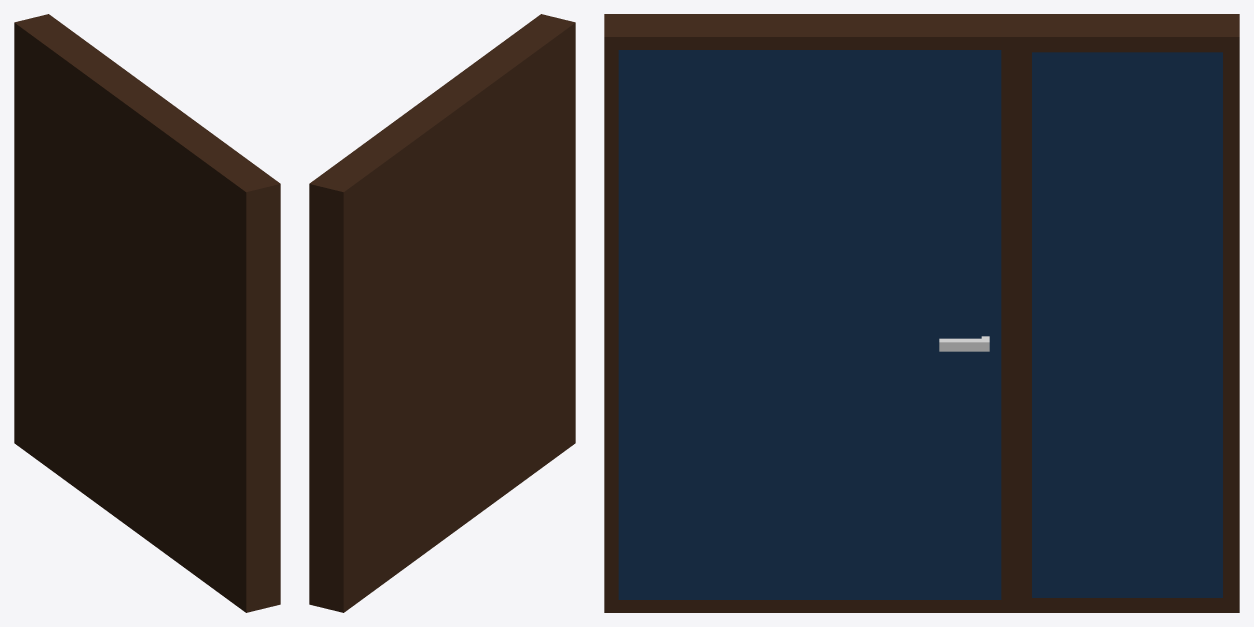
The model's file is PUERTA 1.fbx.
3 views of the same model, side by side, from view 1: azimuth 30°, elevation 25°; view 2: azimuth 150°, elevation 25°; view 3: azimuth 270°, elevation 25° (orthographic). The views are drawn at different scales.
Visible parts, largest first — view 1: Cube; view 2: Cube; view 3: Cube.
Part boxes in pixels (x1,y1,x2,y2): Cube: (14,14,280,612); Cube: (309,14,575,612); Cube: (604,14,1239,612).
Bounding box in the file's own units: 49.41 × 456 × 456.
